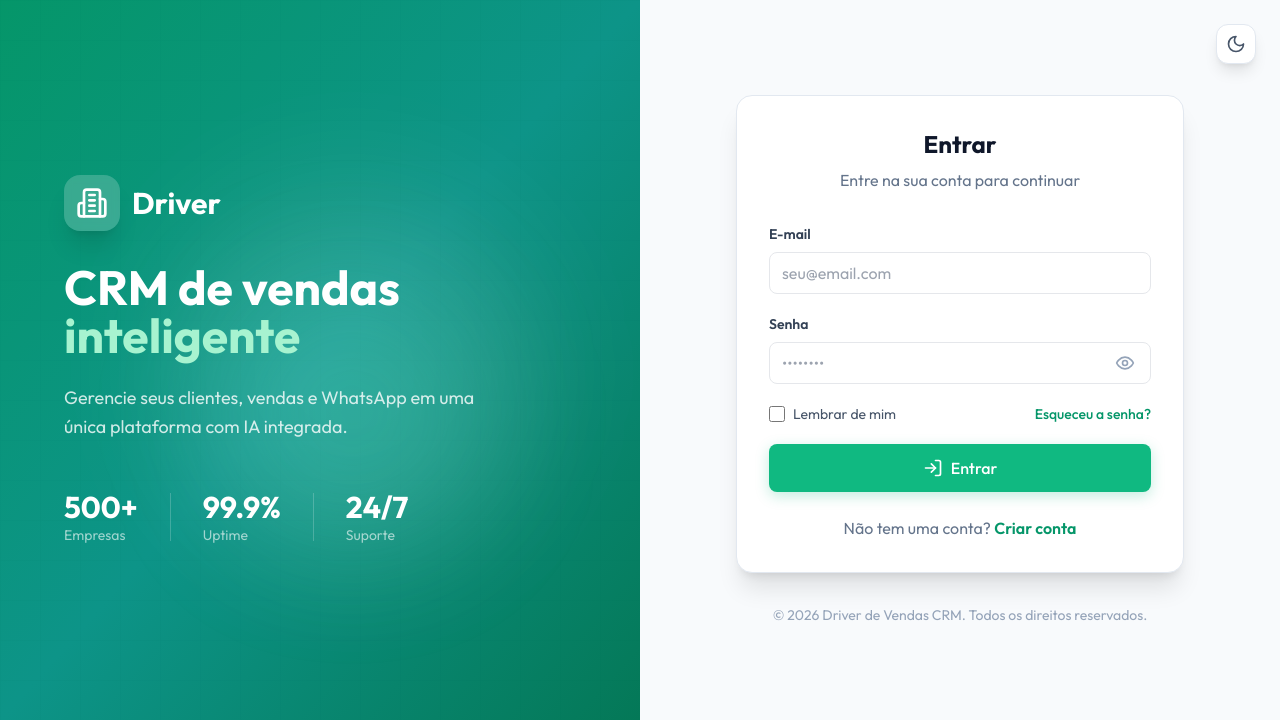
Test: Authentication › Login › should show error for invalid credentials
This screenshot has width=1280, height=720.
In the field named "email": (960, 273) [769,252,1151,294], type "naoexiste@test.com"
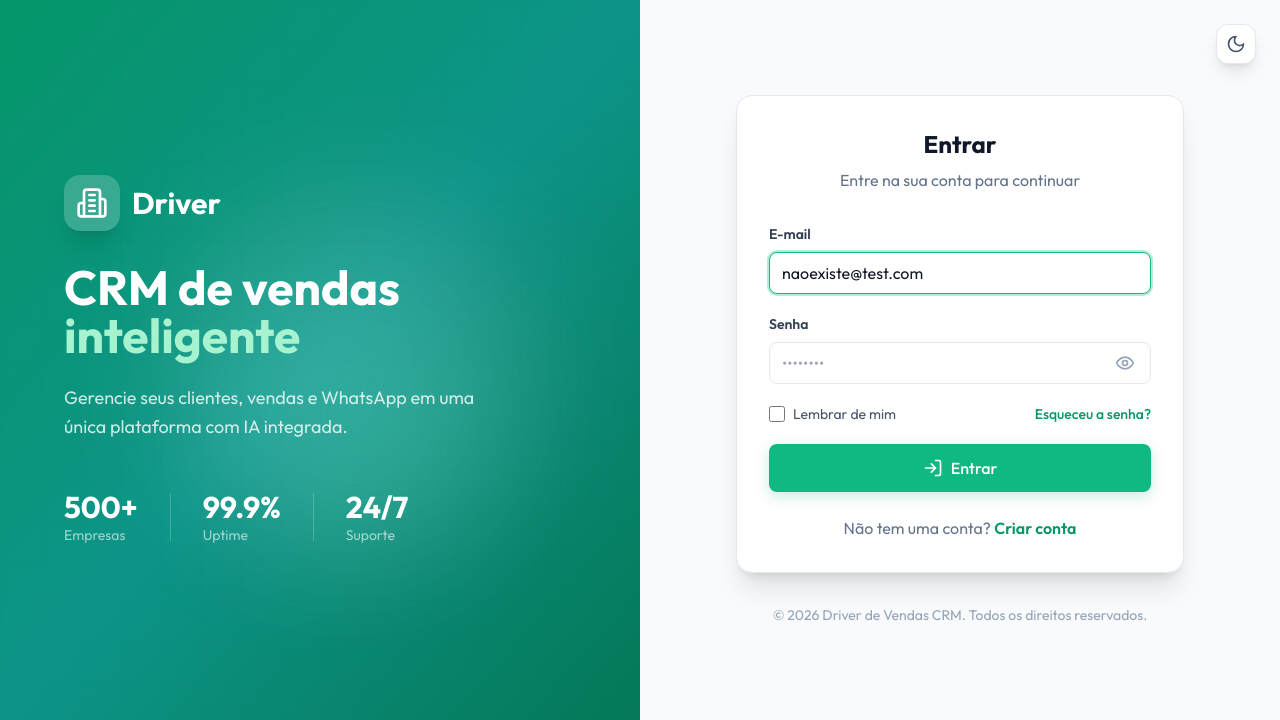
In the password field named "password": (960, 363) [769,342,1151,384], type "senhaerrada"
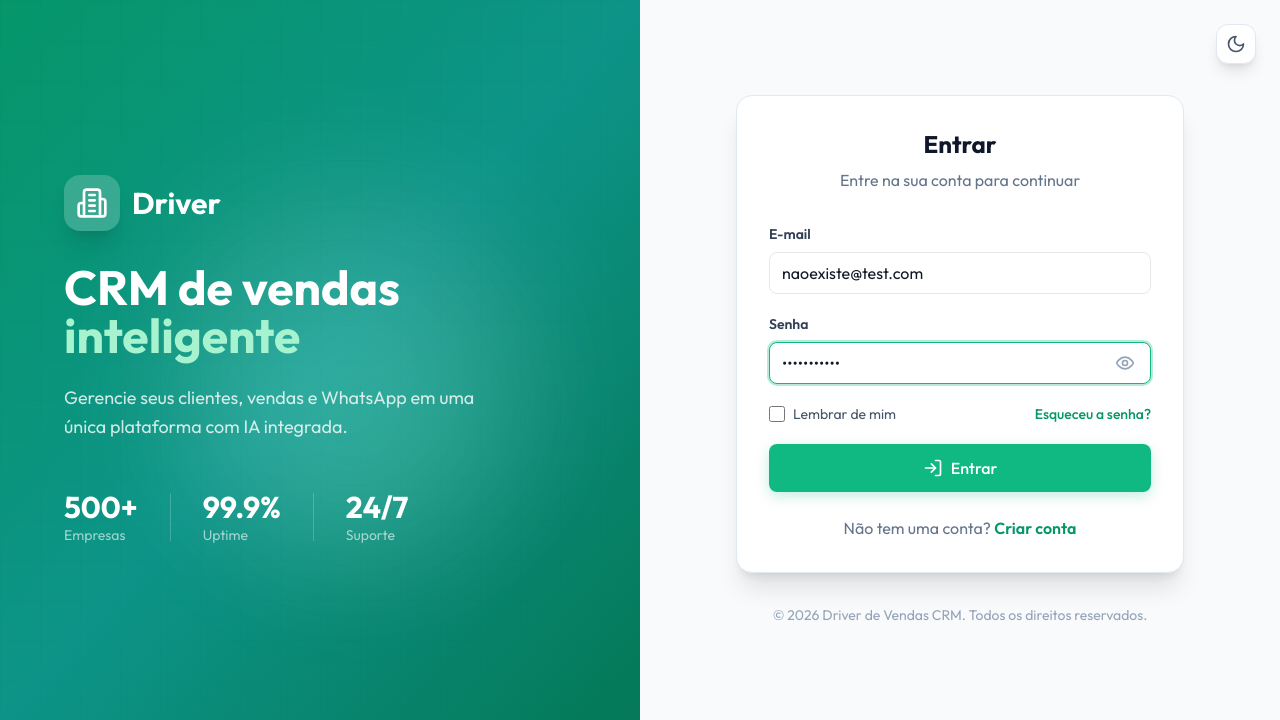
Click the submit button: (960, 468) [769,444,1151,492]
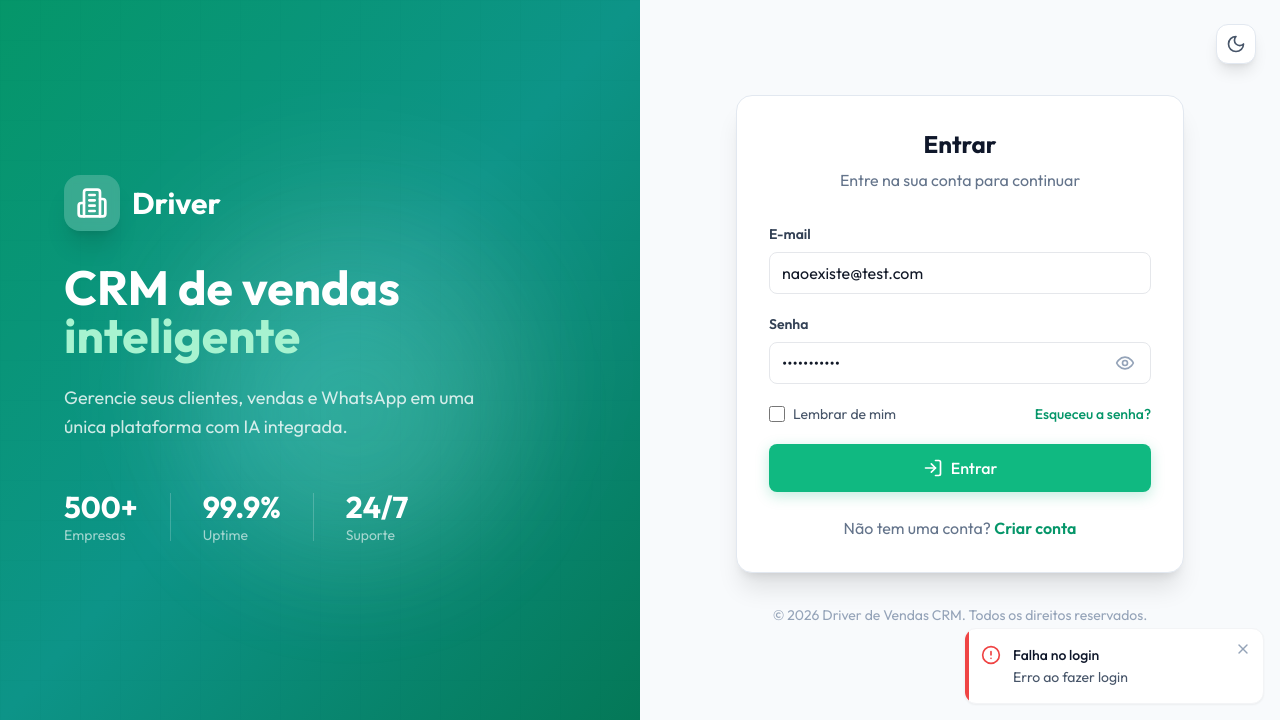
Check: the text "Erro ao fazer login" is shown, box [1013,668,1128,686]
